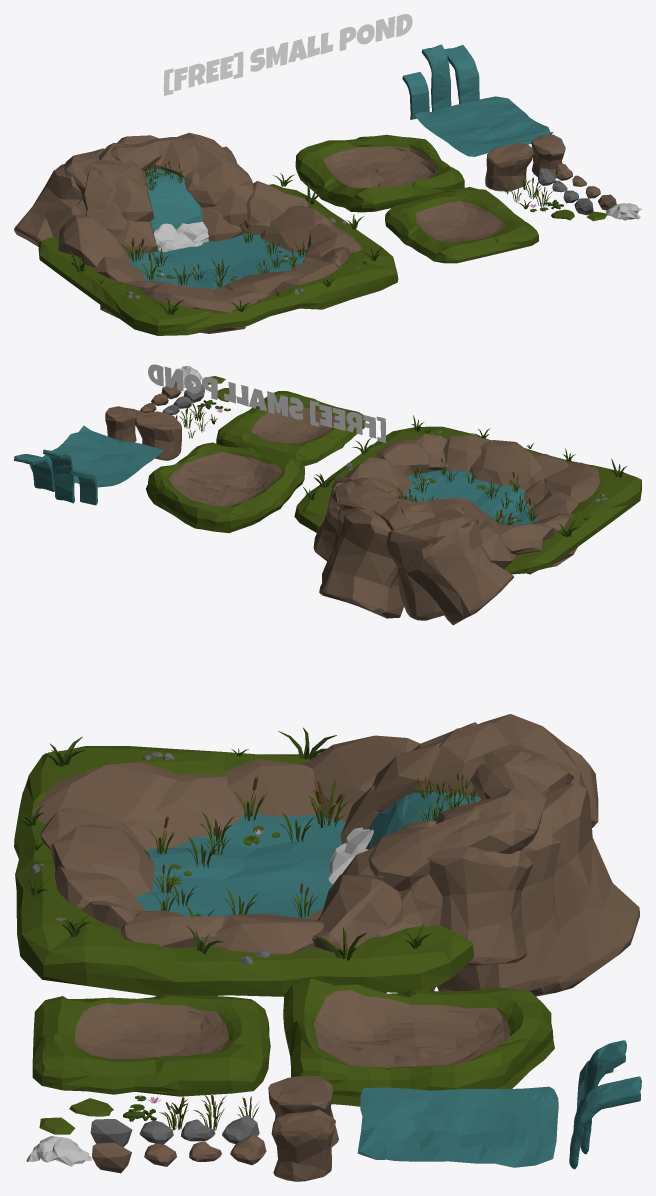
The model's file is lake.fbx.
The picture shows the model from 3 angles, top to bottom: view 1: azimuth 30°, elevation 25°; view 2: azimuth 150°, elevation 25°; view 3: azimuth 270°, elevation 25°; orthographic projection. The views are drawn at different scales.
Parts seen in each view (by area): view 1: Object_14, Object_8, Object_6, Object_13, Object_22, Object_21, Object_2, Object_18, Object_5, Object_16, Object_15, Object_4; view 2: Object_14, Object_6, Object_13, Object_8, Object_21, Object_22, Object_2, Object_18, Object_16, Object_15; view 3: Object_14, Object_8, Object_6, Object_13, Object_21, Object_22, Object_18, Object_16, Object_15, Object_9, Object_4, Object_5.
Boxes of the visible parts, <box> form: Object_14: <box>14,132,361,333</box>; Object_8: <box>38,161,398,335</box>; Object_6: <box>295,134,538,263</box>; Object_13: <box>323,134,565,241</box>; Object_22: <box>129,72,429,289</box>; Object_21: <box>415,44,553,156</box>; Object_2: <box>163,14,412,95</box>; Object_18: <box>69,164,382,314</box>; Object_5: <box>154,221,208,251</box>; Object_16: <box>127,168,593,298</box>; Object_15: <box>555,163,616,210</box>; Object_4: <box>606,203,641,220</box>; Object_14: <box>313,433,600,625</box>; Object_6: <box>146,391,365,533</box>; Object_13: <box>105,405,339,506</box>; Object_8: <box>294,426,641,574</box>; Object_21: <box>14,425,164,503</box>; Object_22: <box>70,470,538,525</box>; Object_2: <box>148,364,385,442</box>; Object_18: <box>303,415,626,536</box>; Object_16: <box>157,384,607,502</box>; Object_15: <box>136,381,181,415</box>; Object_14: <box>31,714,639,996</box>; Object_8: <box>14,746,476,996</box>; Object_6: <box>32,976,554,1106</box>; Object_13: <box>74,990,510,1181</box>; Object_21: <box>357,1040,641,1169</box>; Object_22: <box>135,792,613,1110</box>; Object_18: <box>17,727,465,960</box>; Object_16: <box>31,752,269,1147</box>; Object_15: <box>92,1134,266,1173</box>; Object_9: <box>39,1094,259,1134</box>; Object_4: <box>26,1136,91,1166</box>; Object_5: <box>328,827,373,884</box>.
Size of the model in its own units: 5795 by 2158 by 3643.
